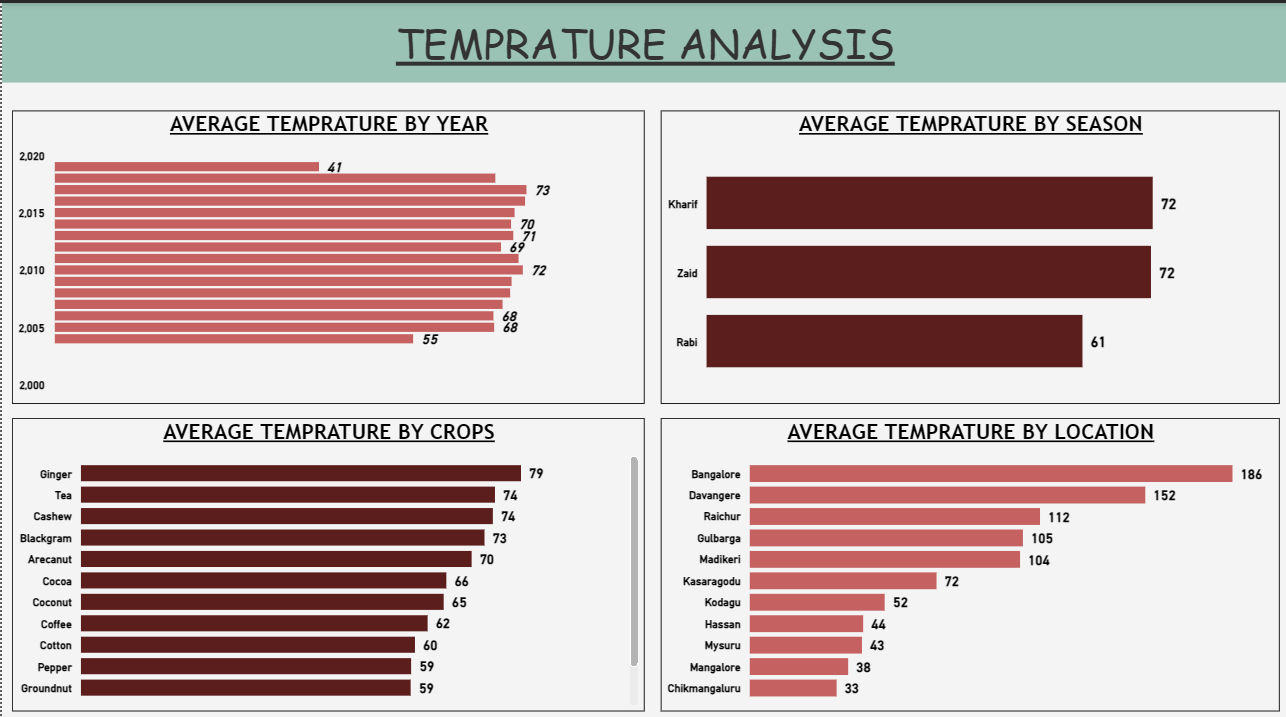

This screenshot's page, from the dashboard's own definition file:
{"tool":"powerbi","page":{"name":"TEMPRATURE ANALYSIS","canvas":[1280,720],"ordinal":1},"visuals":[{"type":"shape","box":[0,0,1280.3,79.6],"z":0},{"type":"barChart","title":"AVERAGE TEMPRATURE BY YEAR","fields":{"Category":["AGRICULTURE.YEAR"],"Y":["Avg(AGRICULTURE.TEMPERATURE)"]},"box":[10,107,629.4,292.3],"z":1000},{"type":"barChart","title":"AVERAGE TEMPRATURE BY SEASON","fields":{"Y":["Avg(AGRICULTURE.TEMPERATURE)"],"Category":["AGRICULTURE.SEASON"]},"box":[655.6,107,615.8,292.3],"z":2000},{"type":"barChart","title":"AVERAGE TEMPRATURE BY CROPS","fields":{"Y":["Avg(AGRICULTURE.TEMPERATURE)"],"Category":["AGRICULTURE.CROPS"]},"box":[10,413,629.4,292.3],"z":3000},{"type":"barChart","title":"AVERAGE TEMPRATURE BY LOCATION","fields":{"Y":["Avg(AGRICULTURE.TEMPERATURE)"],"Category":["AGRICULTURE.LOCATION"]},"box":[655.6,413,615.8,292.3],"z":4000}]}

Visuals, with their boxes in screenshot pixels (x1, y1, x2, y2), scaled from the page's 1280x720 canvas onto the 1286x717 screenshot:
shape: [0, 0, 1285, 79]
"AVERAGE TEMPRATURE BY YEAR" barChart: [10, 107, 642, 398]
"AVERAGE TEMPRATURE BY SEASON" barChart: [659, 107, 1277, 398]
"AVERAGE TEMPRATURE BY CROPS" barChart: [10, 411, 642, 702]
"AVERAGE TEMPRATURE BY LOCATION" barChart: [659, 411, 1277, 702]
